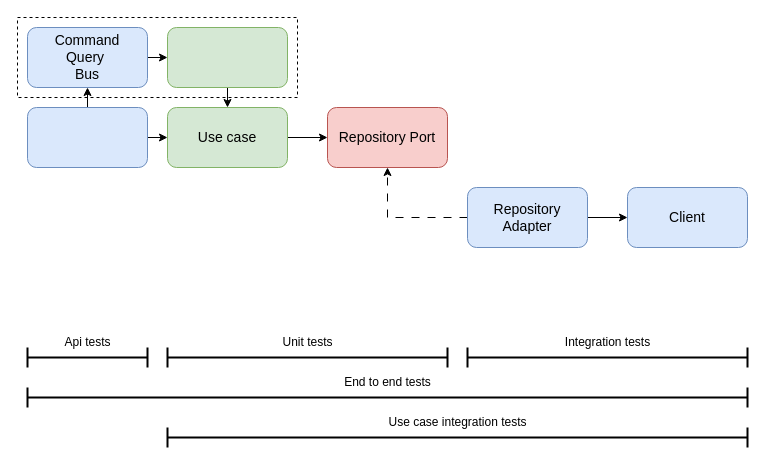
This 766x466 diagram has some shape labels left out. The shapes that lost their labels are listed below. From the top down, each one's centre as x and y in pixels, then its label:
At pixel 227 57: "Handler".
At pixel 87 137: "Controller".
